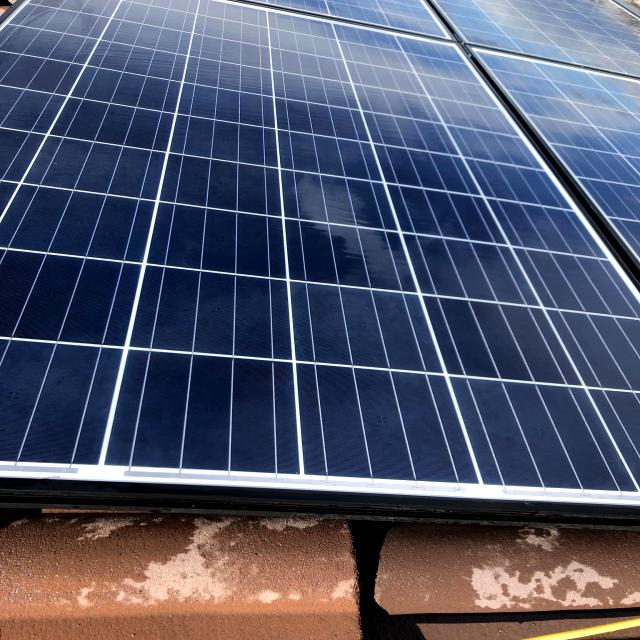crack: (2, 2, 640, 528)
